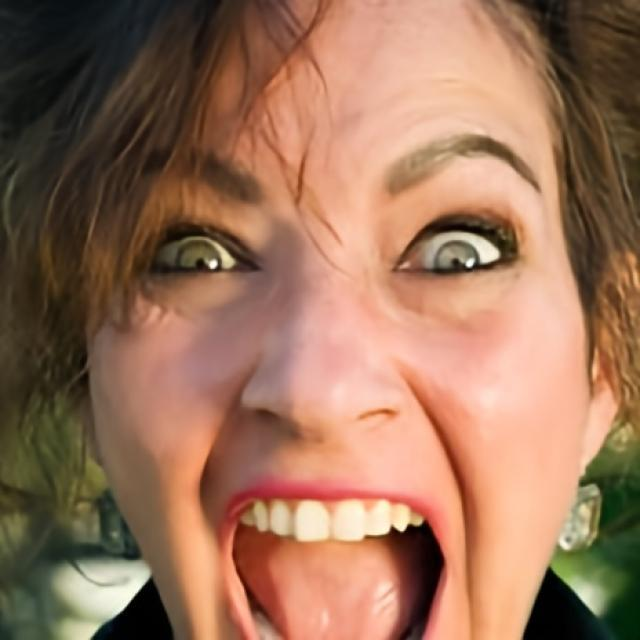Fear: (84, 0, 592, 640)
